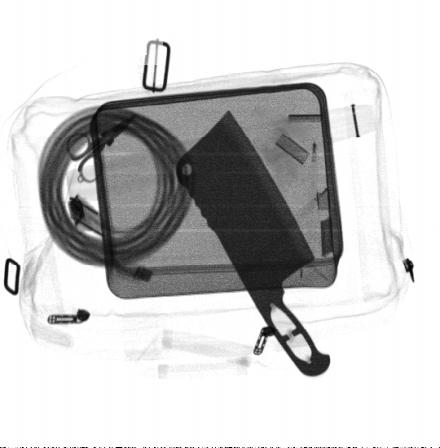Knife: (176, 110, 331, 379)
Scissors: (65, 113, 137, 184)
